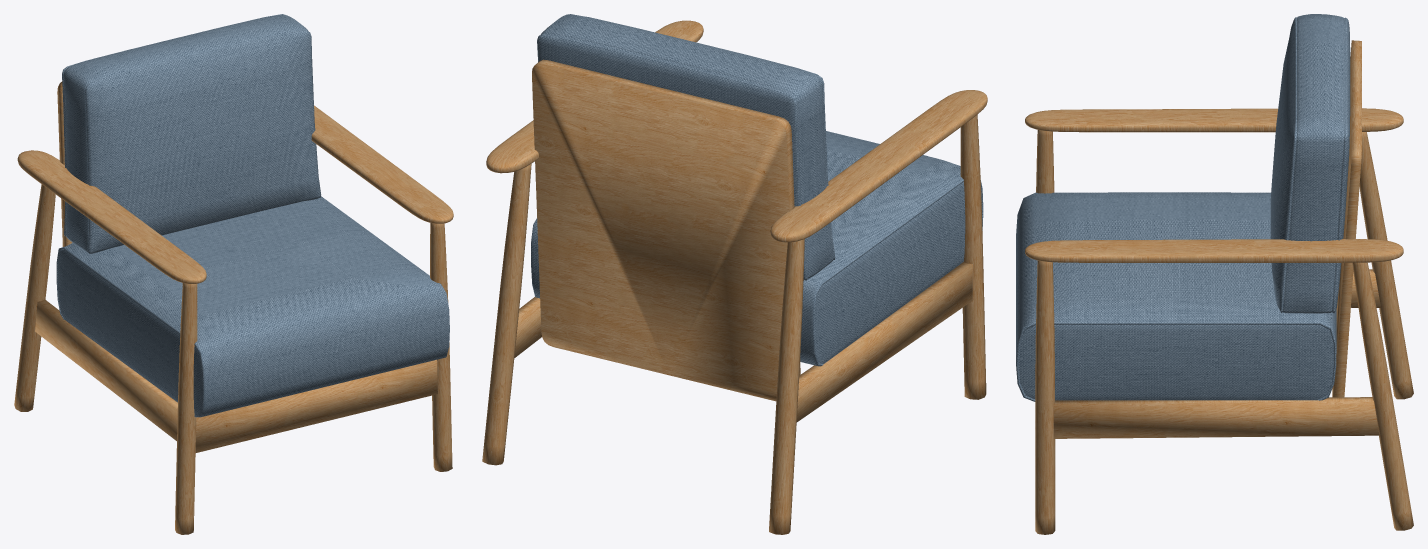
The model's file is design9.obj.
The picture shows the model from 3 angles, left to right: view 1: azimuth 30°, elevation 25°; view 2: azimuth 150°, elevation 25°; view 3: azimuth 270°, elevation 25°; orthographic projection. The views are drawn at different scales.
Visible parts, largest first — view 1: Box043, Box044, Box041, Box042, Plane023, Plane024, Plane025; view 2: Plane025, Box043, Box044, Box041, Box042, Plane024; view 3: Box043, Box044, Box041, Box042, Plane024, Plane025.
Boxes of the visible parts, box(x1,y1,x2,y2) form: Box043: box(56, 196, 449, 417); Box044: box(62, 14, 321, 253); Box041: box(14, 184, 452, 534); Box042: box(17, 105, 453, 283); Plane023: box(195, 359, 437, 452); Plane024: box(35, 299, 177, 440); Plane025: box(57, 81, 72, 246); Plane025: box(532, 59, 800, 401); Box043: box(531, 131, 983, 366); Box044: box(537, 14, 835, 280); Box041: box(482, 114, 986, 534); Box042: box(486, 20, 987, 242); Plane024: box(514, 262, 972, 422); Box043: box(1016, 192, 1336, 401); Box044: box(1270, 14, 1350, 313); Box041: box(1035, 130, 1413, 534); Box042: box(1025, 108, 1403, 262); Plane024: box(1053, 269, 1381, 438); Plane025: box(1332, 40, 1361, 397).
Size of the model in its own units: 720 by 900 by 817.
Materials: 2 (2 with a texture image).
